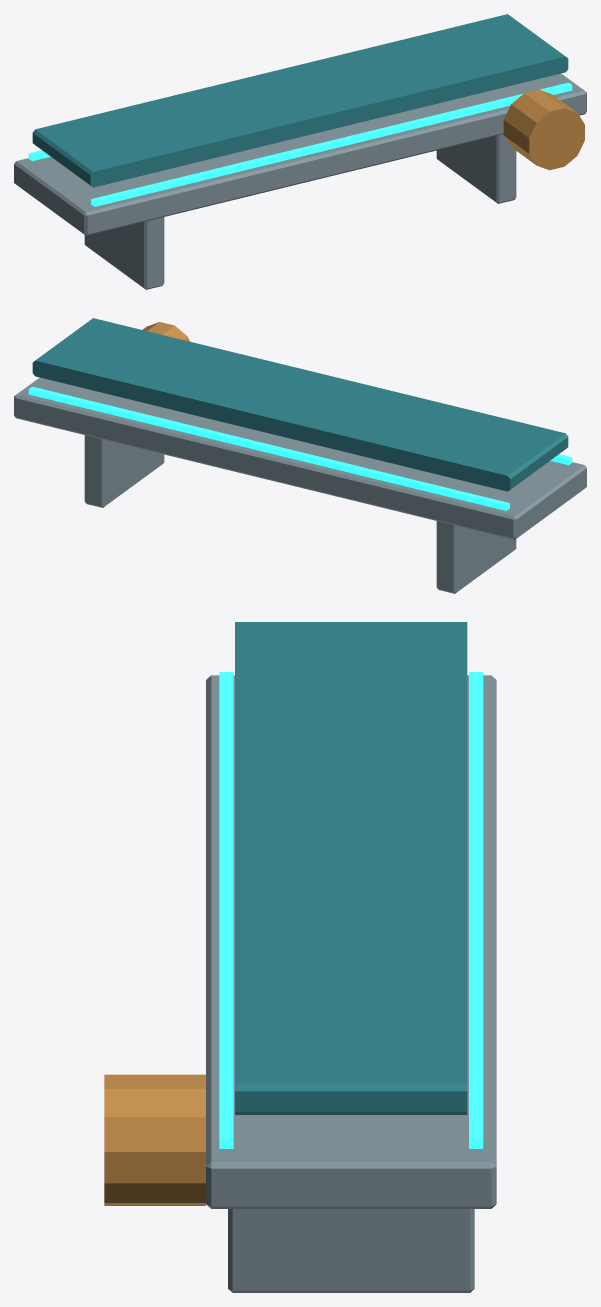
Rendered from Frontier_MiningConveyor.glb.
3 renders of one model, top to bottom at view 1: azimuth 30°, elevation 25°; view 2: azimuth 150°, elevation 25°; view 3: azimuth 270°, elevation 25°, orthographic. The views are drawn at different scales.
Visible parts, largest first — view 1: Frontier_MiningConveyor_Belt, Frontier_MiningConveyor_Frame, Frontier_MiningConveyor_Legs, Frontier_MiningConveyor_Motor; view 2: Frontier_MiningConveyor_Belt, Frontier_MiningConveyor_Frame, Frontier_MiningConveyor_Legs, Frontier_MiningConveyor_Motor; view 3: Frontier_MiningConveyor_Belt, Frontier_MiningConveyor_Frame, Frontier_MiningConveyor_Legs, Frontier_MiningConveyor_Motor.
Boxes of the visible parts, x1,y1,x2,y2 form: Frontier_MiningConveyor_Belt: [28, 14, 572, 206]; Frontier_MiningConveyor_Frame: [14, 73, 586, 235]; Frontier_MiningConveyor_Legs: [84, 134, 516, 289]; Frontier_MiningConveyor_Motor: [503, 89, 584, 170]; Frontier_MiningConveyor_Belt: [28, 318, 572, 510]; Frontier_MiningConveyor_Frame: [14, 377, 586, 539]; Frontier_MiningConveyor_Legs: [84, 435, 516, 593]; Frontier_MiningConveyor_Motor: [142, 322, 189, 341]; Frontier_MiningConveyor_Belt: [219, 622, 483, 1148]; Frontier_MiningConveyor_Frame: [206, 675, 496, 1208]; Frontier_MiningConveyor_Legs: [228, 1209, 474, 1292]; Frontier_MiningConveyor_Motor: [104, 1074, 205, 1205].
Bounding box in the file's own units: 4 × 0.99 × 1.35.
